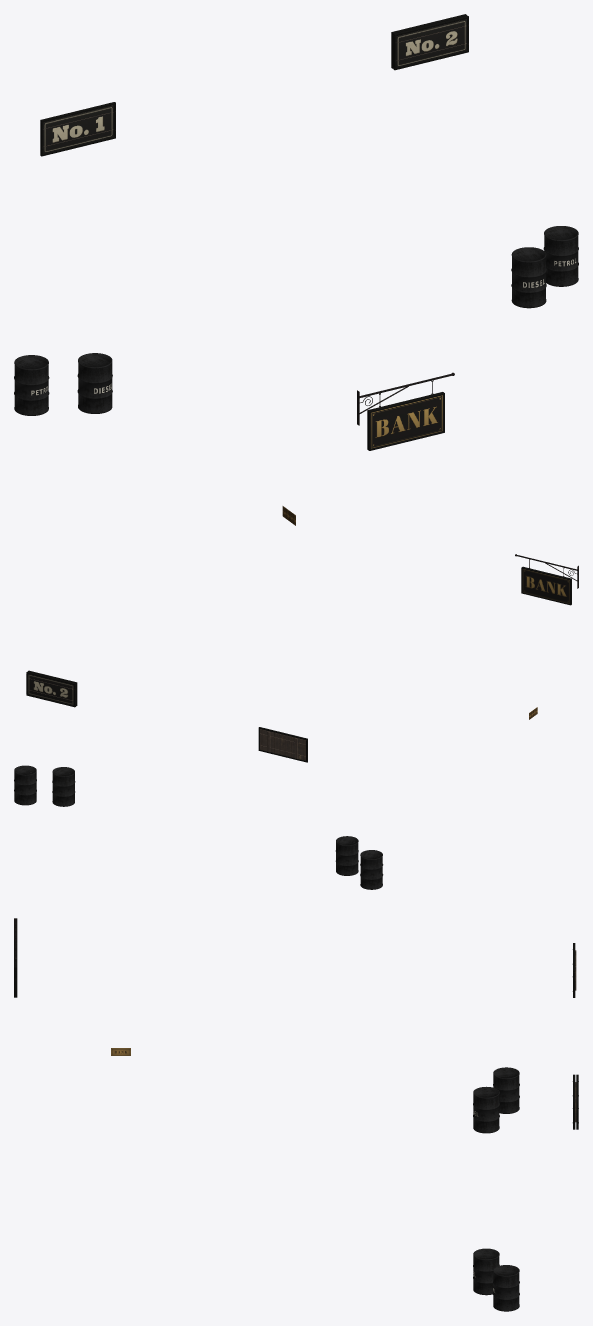
The model's file is works-signs.glb.
The picture shows the model from 3 angles, top to bottom: view 1: azimuth 30°, elevation 25°; view 2: azimuth 150°, elevation 25°; view 3: azimuth 270°, elevation 25°; orthographic projection. The views are drawn at different scales.
Visible parts, largest first — view 1: bank-sign-board, gate-board-no-1-body, gate-board-no-2-body, steel-drum-petrol-body, steel-drum-diesel-body, steel-drum-diesel-body.001, steel-drum-petrol-body.001; view 2: bank-sign-board, gate-board-no-1-body, gate-board-no-2-body.001, steel-drum-diesel-body, steel-drum-diesel-body.001, steel-drum-petrol-body, steel-drum-petrol-body.001; view 3: steel-drum-diesel-body, steel-drum-petrol-body.001, steel-drum-petrol-body, steel-drum-diesel-body.001.
Part boxes in pixels (x1,y1,x2,y2): bank-sign-board: (367,392,444,450); gate-board-no-1-body: (40,102,115,156); gate-board-no-2-body: (393,15,468,70); steel-drum-petrol-body: (14,355,49,415); steel-drum-diesel-body: (77,353,112,413); steel-drum-diesel-body.001: (511,247,546,308); steel-drum-petrol-body.001: (543,226,578,286); bank-sign-board: (521,566,571,605); gate-board-no-1-body: (258,727,307,762); gate-board-no-2-body.001: (26,671,75,707); steel-drum-diesel-body: (335,836,358,875); steel-drum-diesel-body.001: (52,767,75,806); steel-drum-petrol-body: (360,850,383,889); steel-drum-petrol-body.001: (14,765,36,805); steel-drum-diesel-body: (473,1086,499,1133); steel-drum-petrol-body.001: (493,1265,519,1311); steel-drum-petrol-body: (493,1067,519,1113); steel-drum-diesel-body.001: (473,1248,499,1295).
Bounding box in the file's own units: 11.11 × 4.78 × 12.7.
11 materials, 11 textured.
